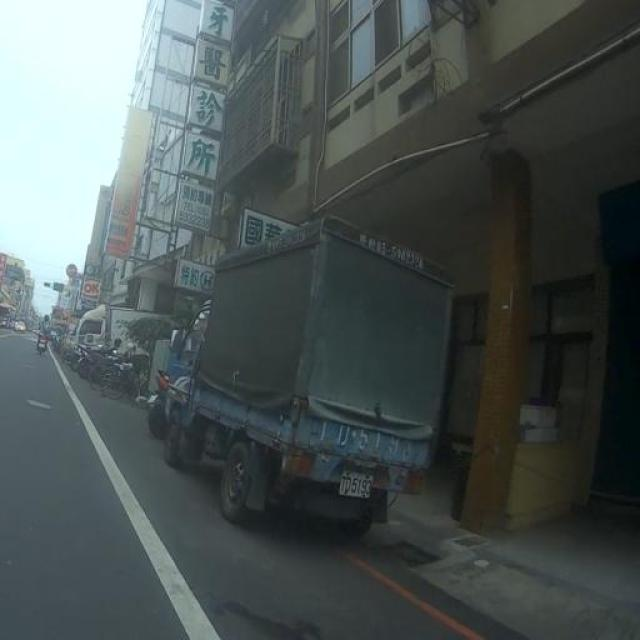Legalparking: (59, 272, 161, 392)
